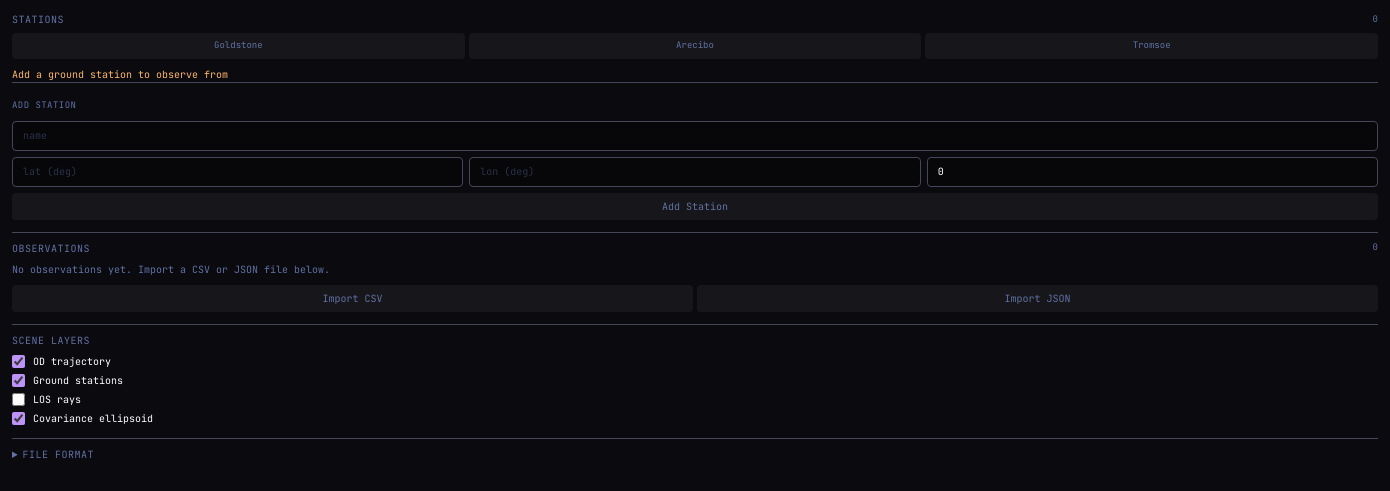
Test: ObservationPanel › manual add validates and appends a station in degrees
Type "redsea" into the field named "Station name".
click(695, 136); type("redsea")  # box [12,120,1378,150]
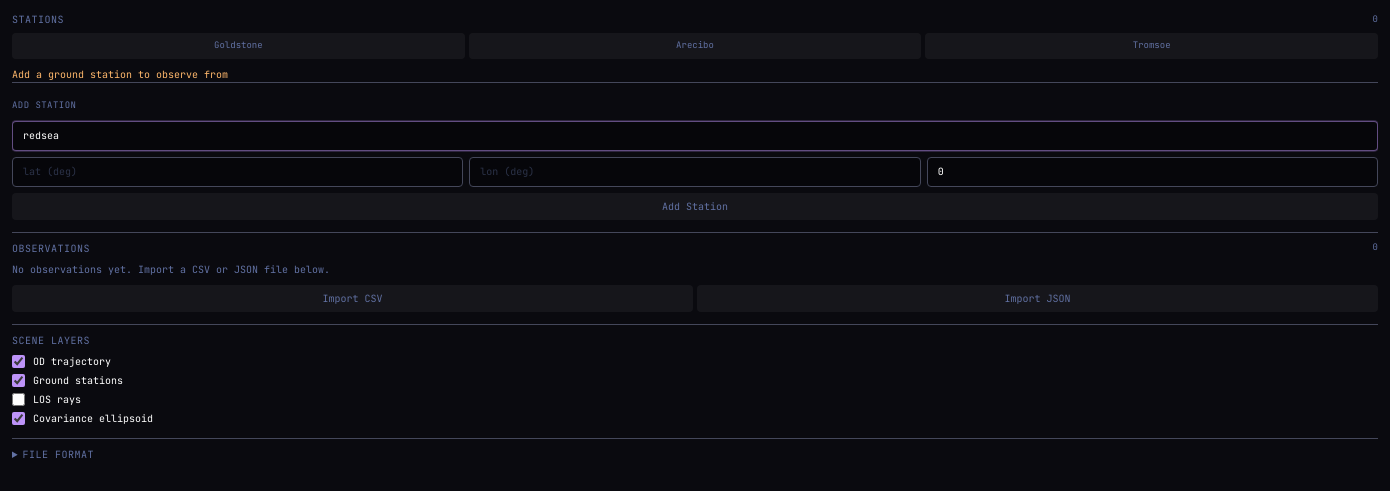
Type "28" into the number field named "Station latitude deg".
click(238, 172); type("28")  # box [12,156,463,186]
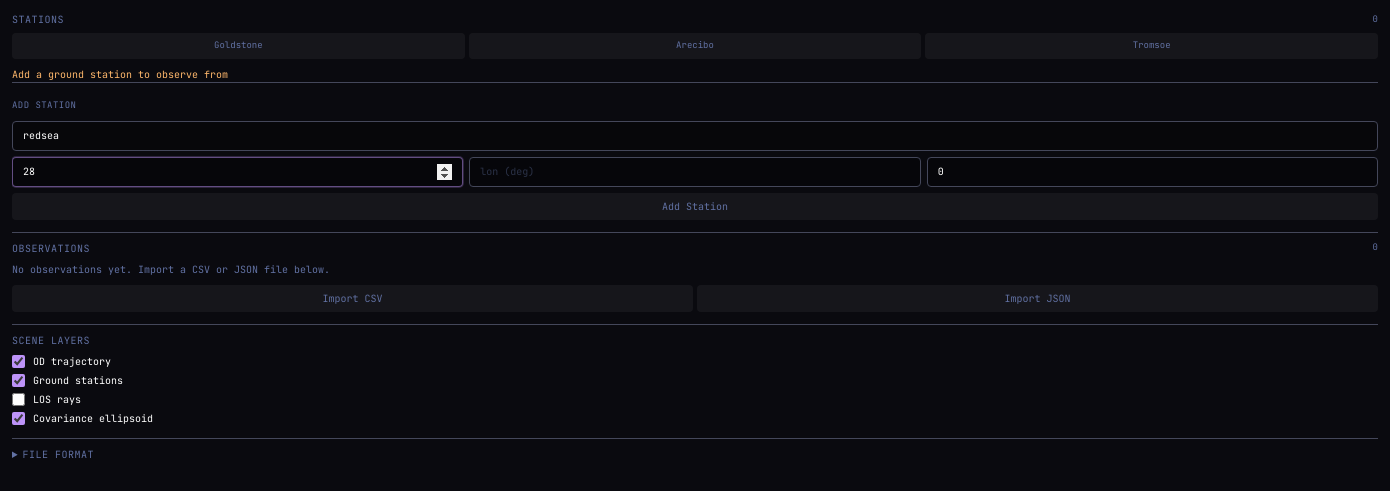
Type "-13" into the number field named "Station longitude deg".
click(695, 172); type("-13")  # box [469,156,921,186]
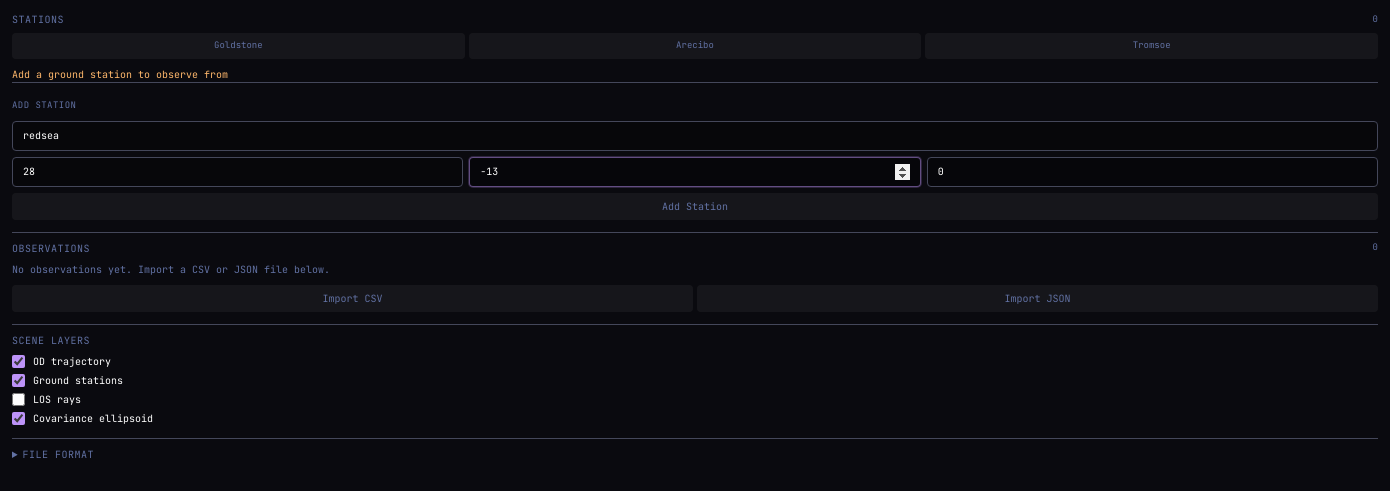
Type "0.2" into the number field named "Station altitude km".
click(1152, 172); type("0.2")  # box [927,156,1378,186]
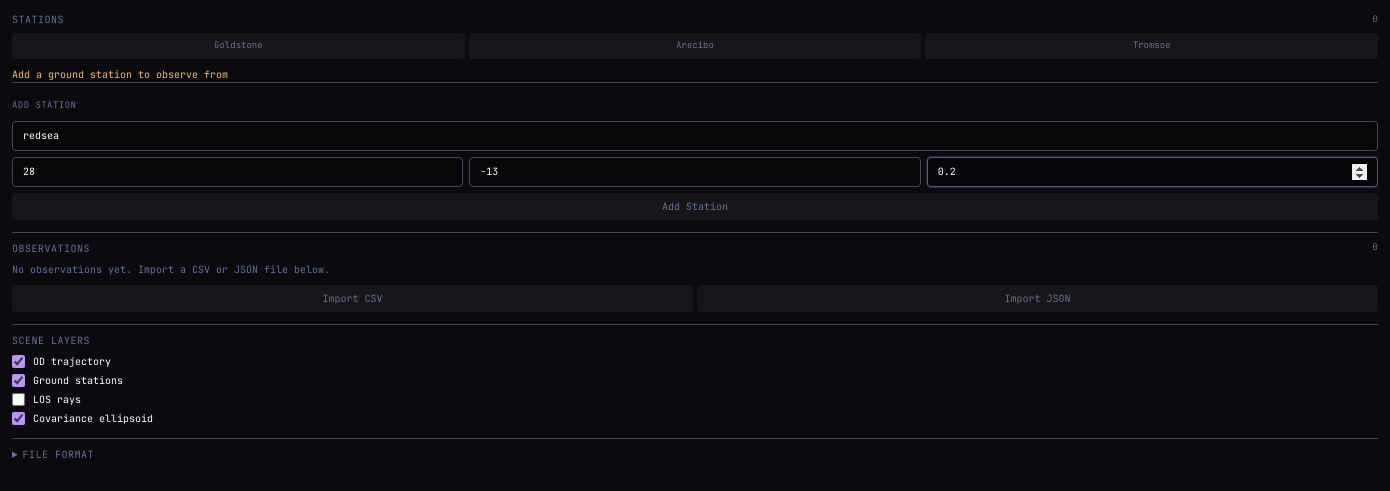
Click the button "Add Station".
click(695, 206)  # box [12,192,1378,220]
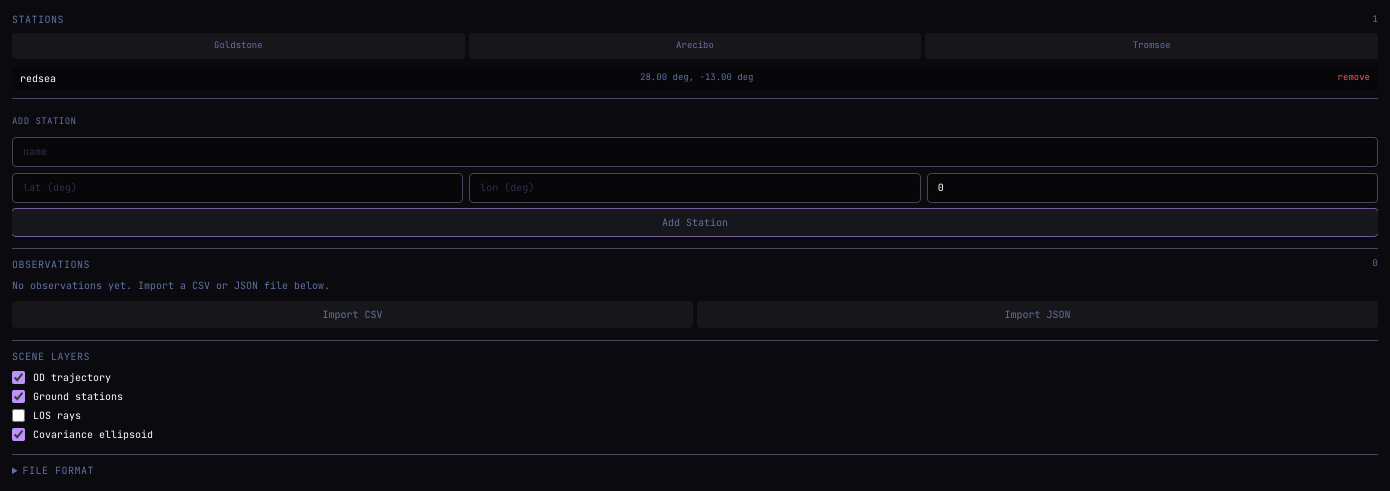
expect the text "redsea" is shown: met, box [20,70,56,86]
